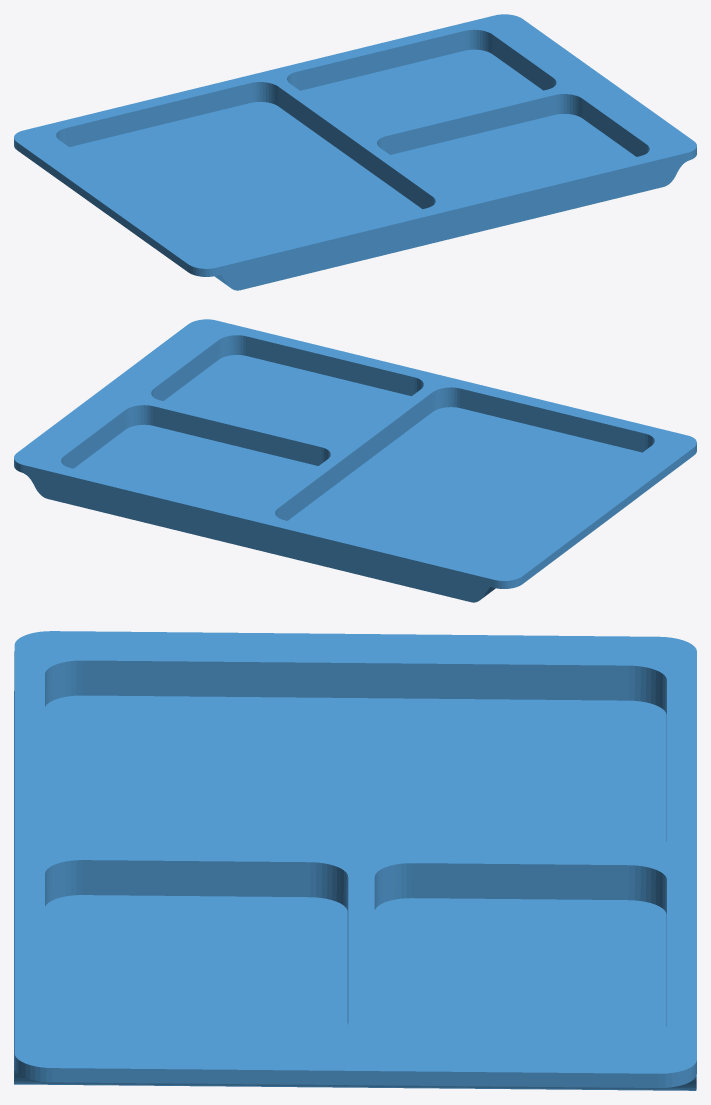
The model's file is tray_blue.dae.
The picture shows the model from 3 angles, top to bottom: view 1: azimuth 30°, elevation 25°; view 2: azimuth 150°, elevation 25°; view 3: azimuth 270°, elevation 25°; orthographic projection. The views are drawn at different scales.
Parts seen in each view (by area): view 1: Tray-blue; view 2: Tray-blue; view 3: Tray-blue.
Boxes of the visible parts, x1=… form: Tray-blue: x1=14, y1=14, x2=696, y2=290; Tray-blue: x1=14, y1=319, x2=696, y2=602; Tray-blue: x1=14, y1=631, x2=696, y2=1090.
Size of the model in its own units: 0.3 by 0.1982 by 0.018.
